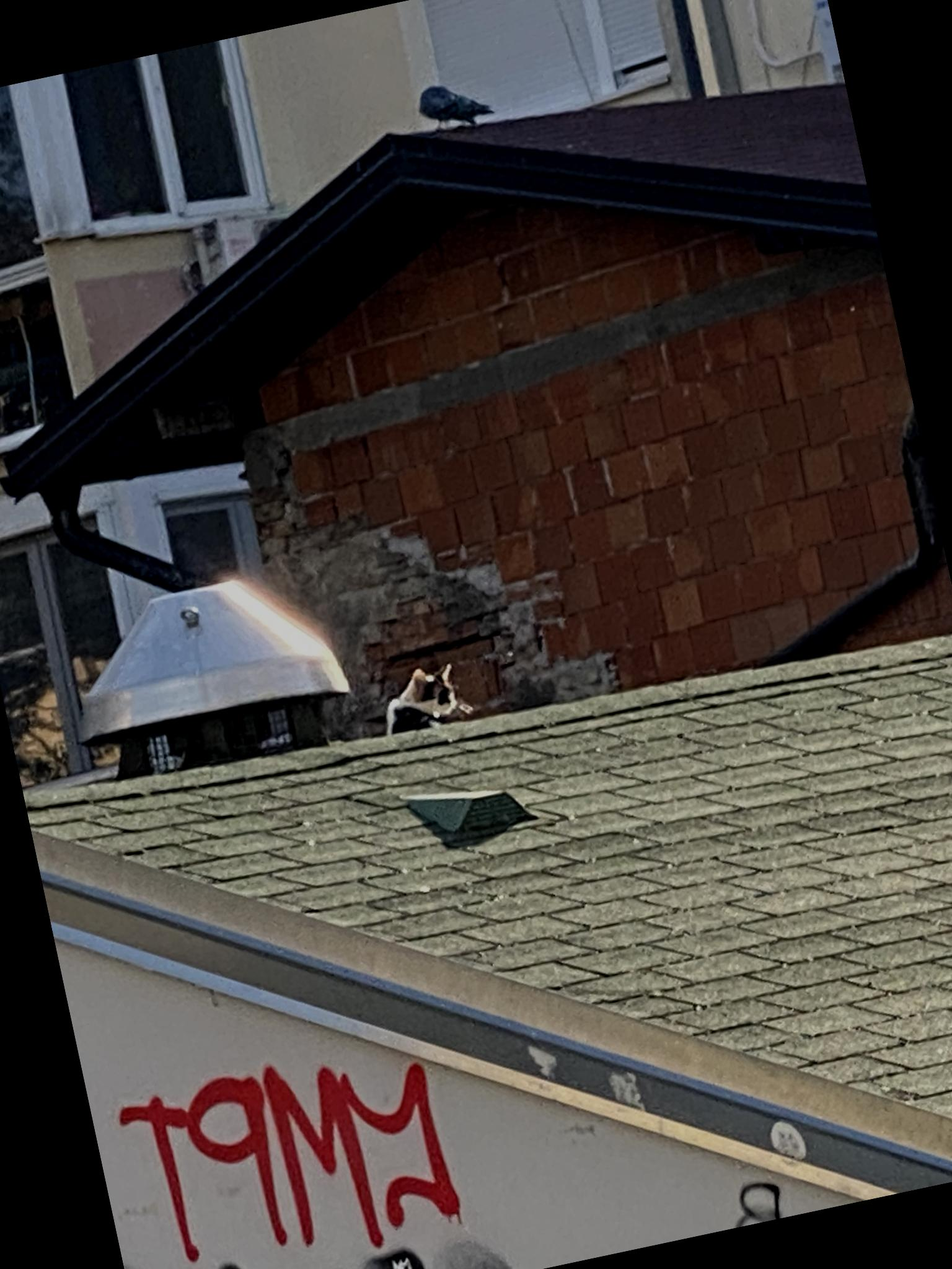macka: (375, 661, 465, 736)
